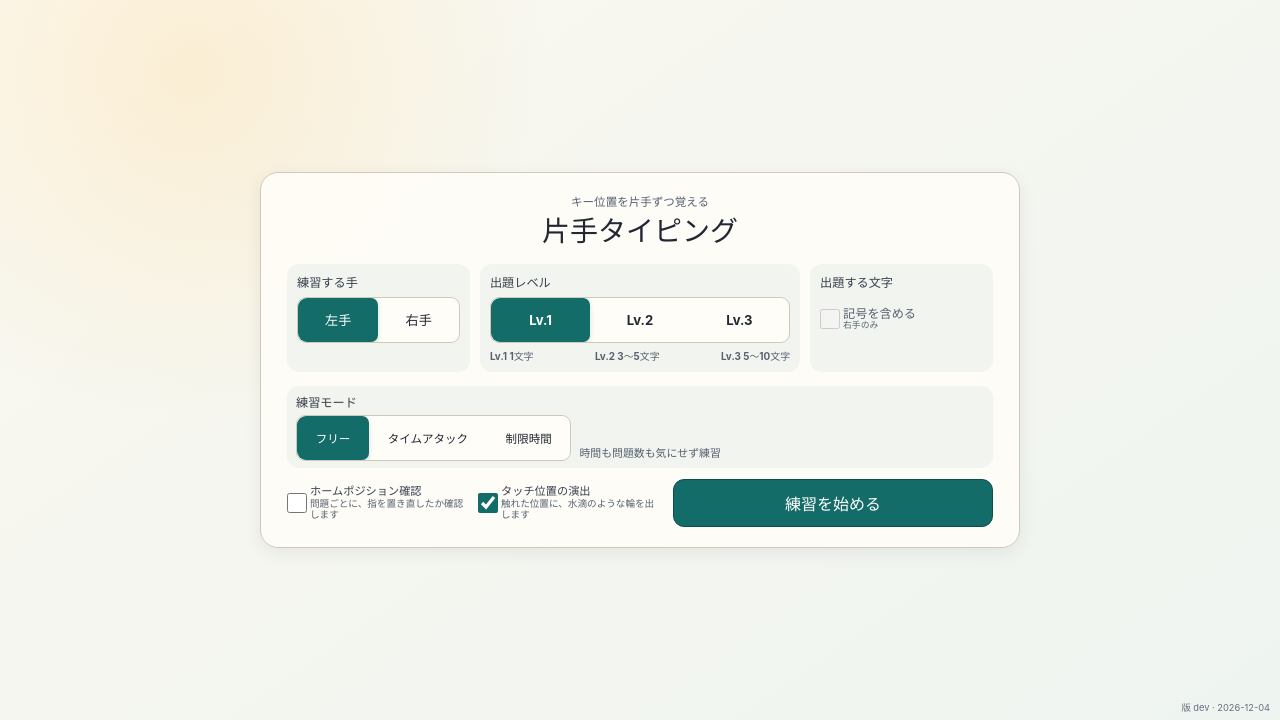
Scenario: 設定・練習・結果の3画面 › 設定画面では練習監視を登録せず、練習画面を離れると解除する
The image size is (1280, 720).
Click the button with test id "start-practice".
click(833, 503)  # box [673,479,993,527]
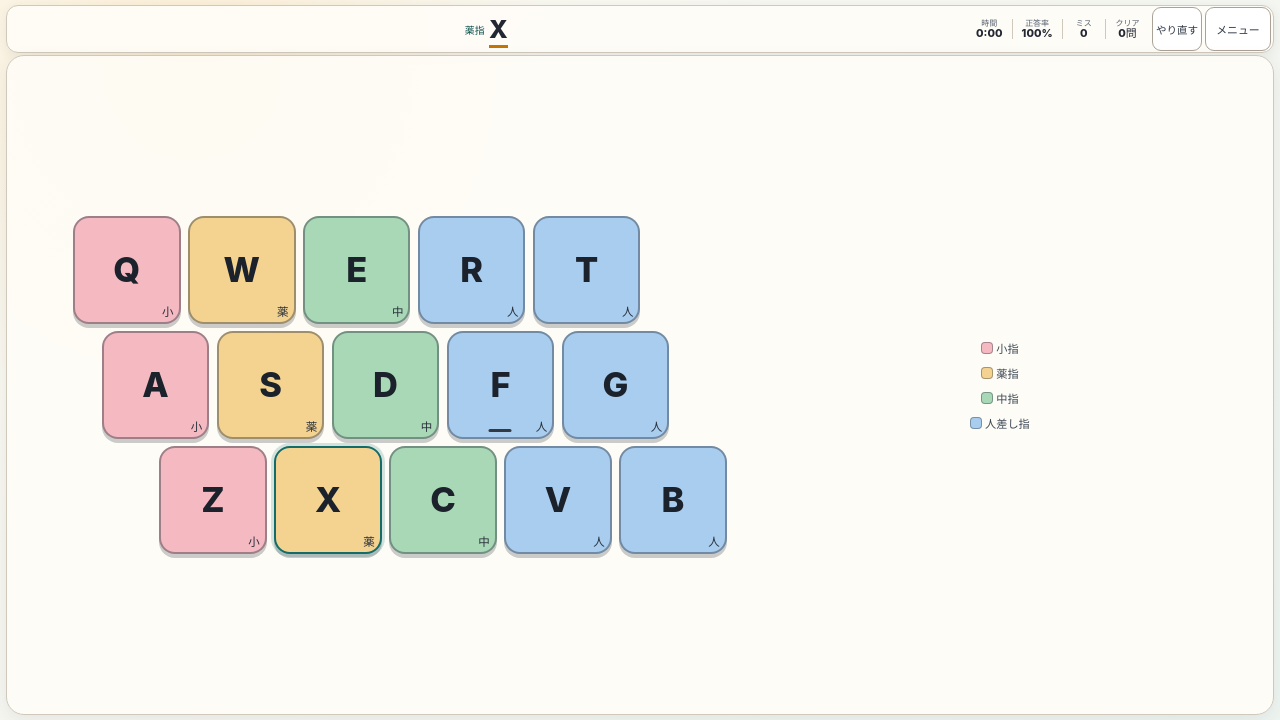
Click the button with test id "menu-button".
click(1238, 29)  # box [1205,7,1271,51]
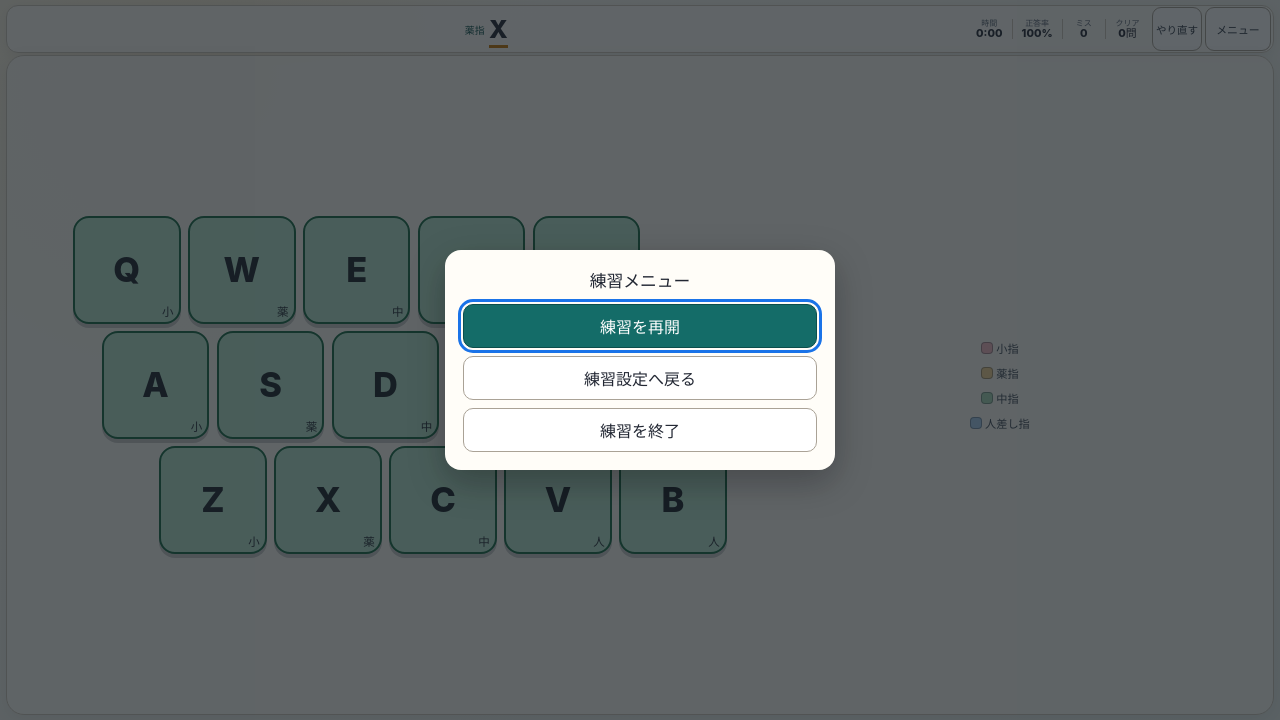
Click the button with test id "menu-to-settings".
click(640, 378)  # box [463,356,817,400]
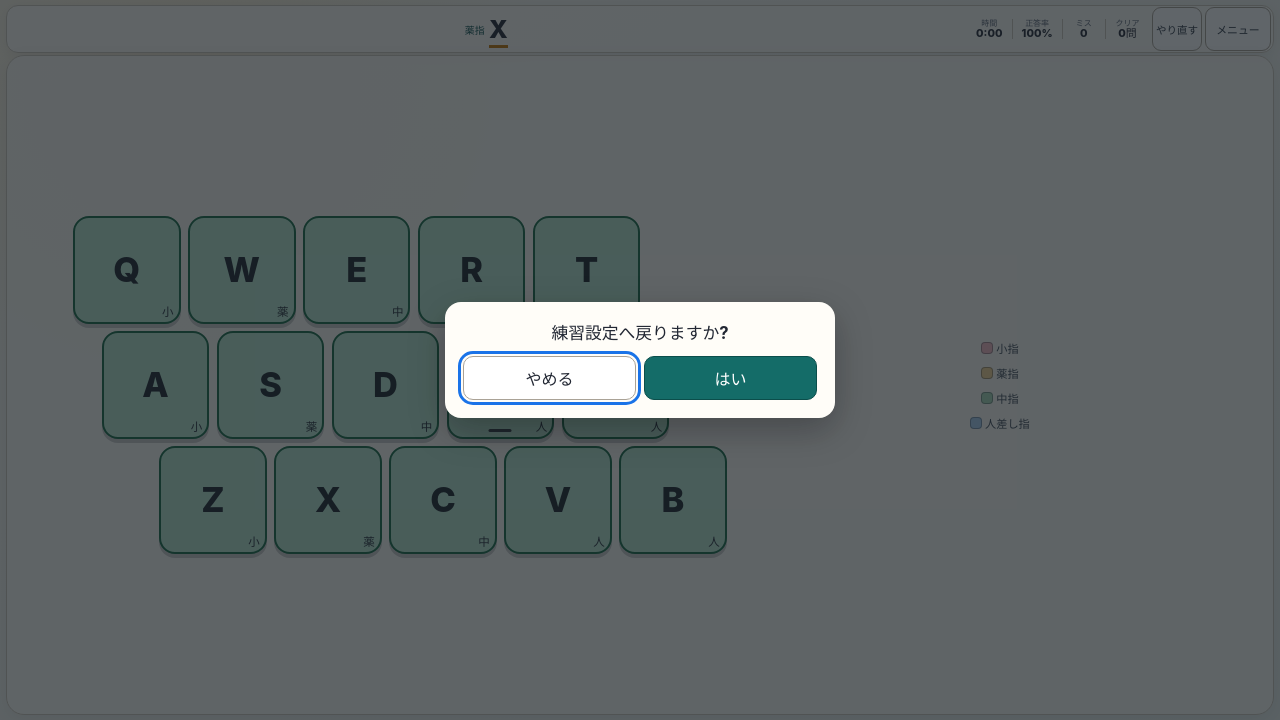
Click the button with test id "confirm-yes".
click(730, 378)  # box [644,356,817,400]
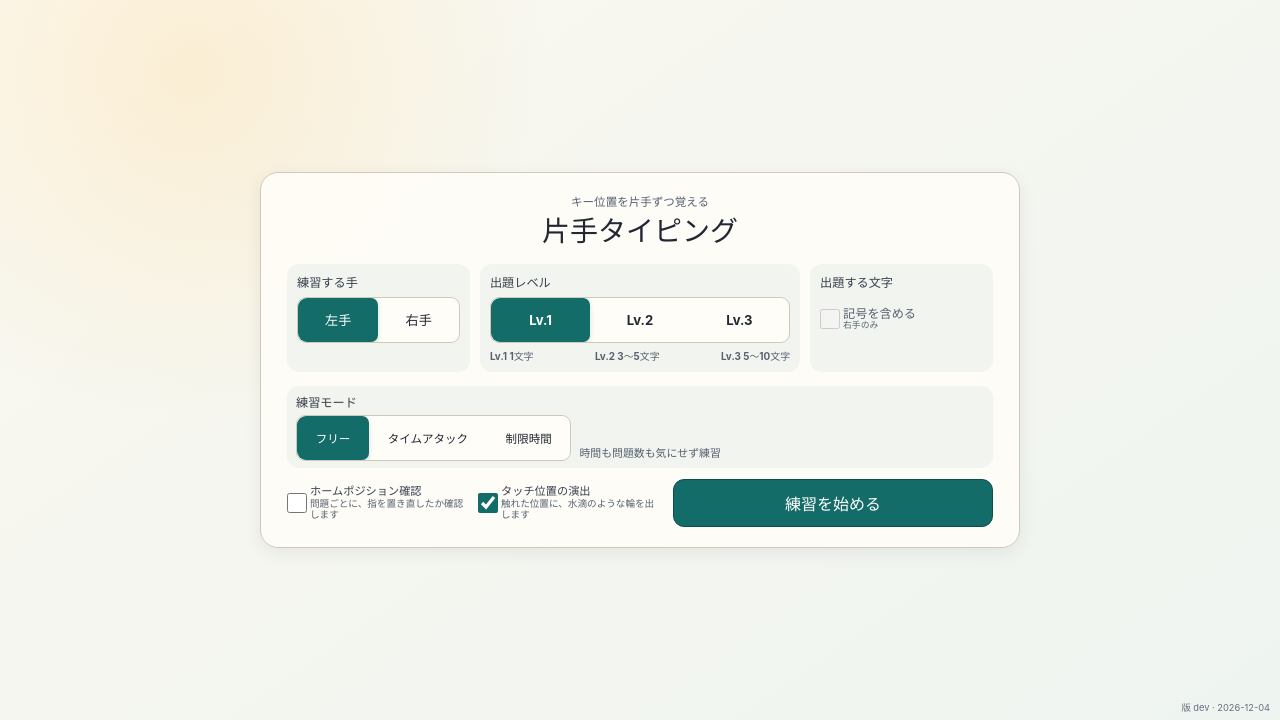
Expected: the element with test id "settings-screen" is shown, [260,172,1270,713]
